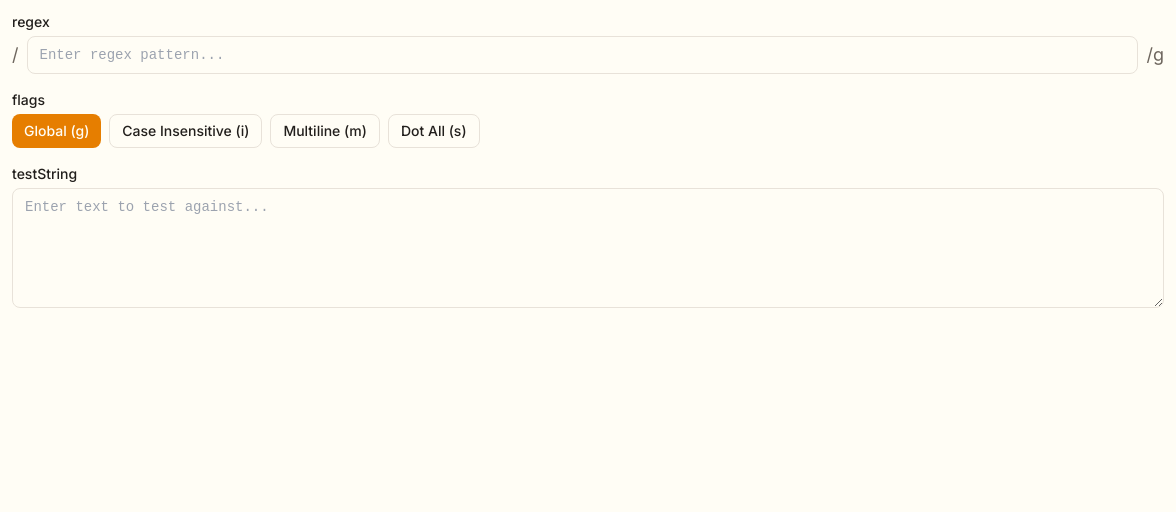
Test case: RegexTester › shows match positions
Type "hello" into the field with placeholder "Enter regex pattern..." at (582, 55), box [26,36,1138,74]
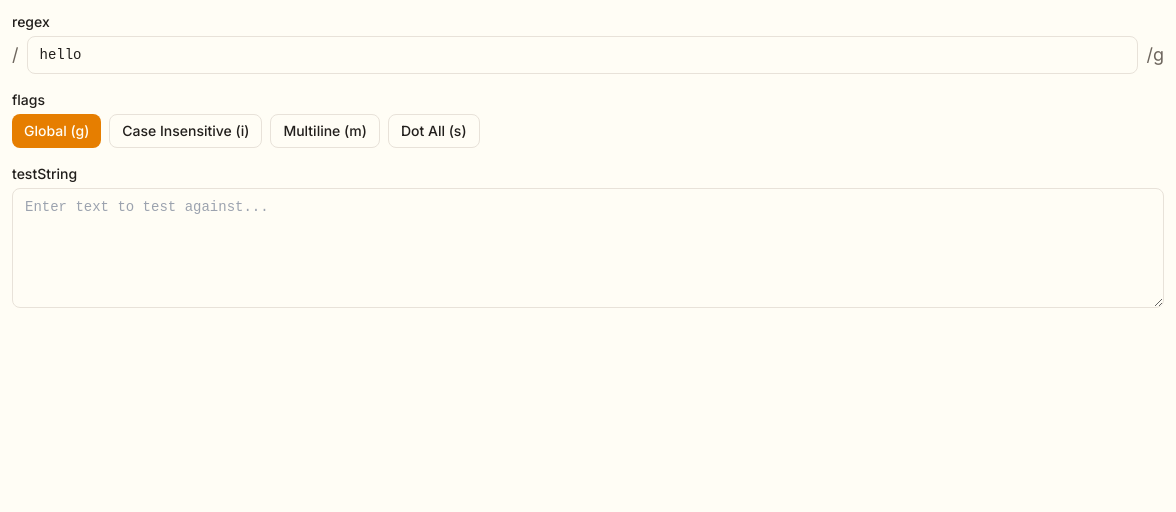
Type "hello world" into the text box with placeholder "Enter text to test against..." at (588, 248), box [12,188,1164,308]
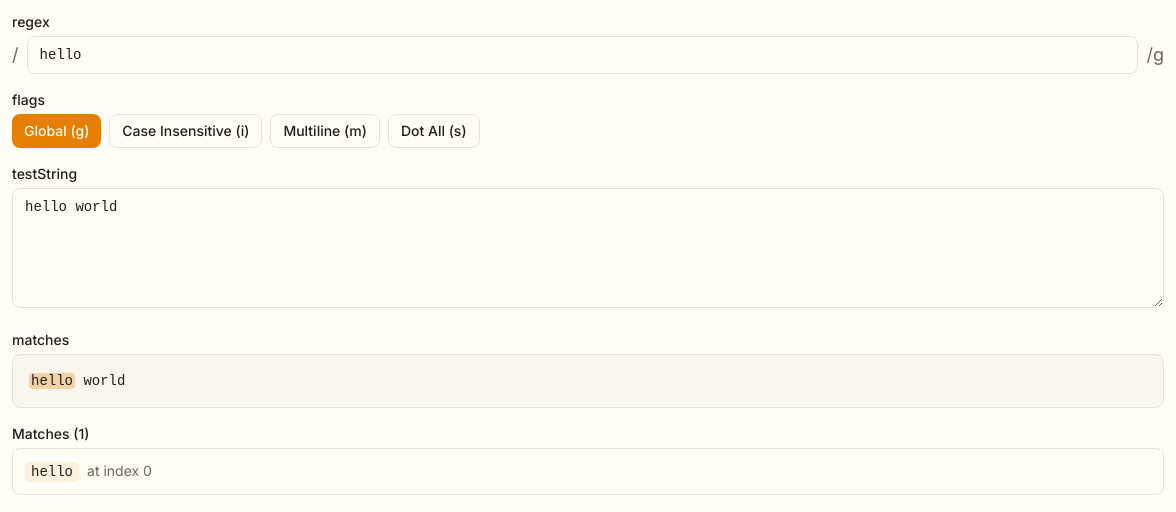
Expected: the text "at index 0" is shown, [87,462,152,479]
